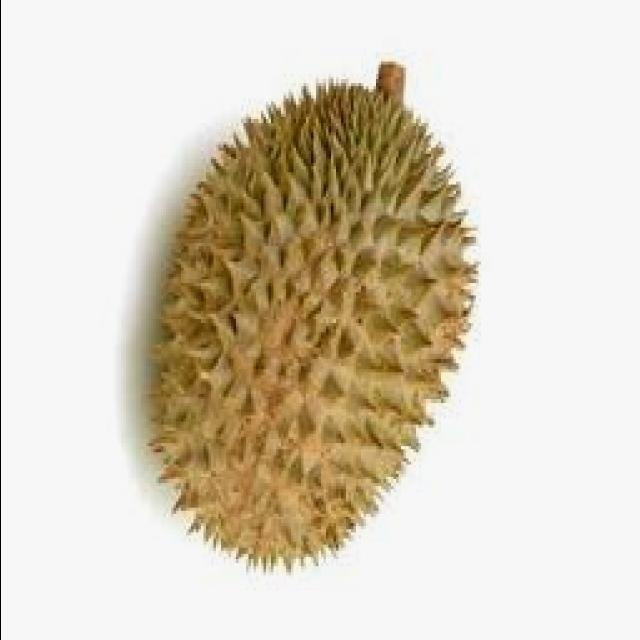agrume: (132, 65, 510, 575)
